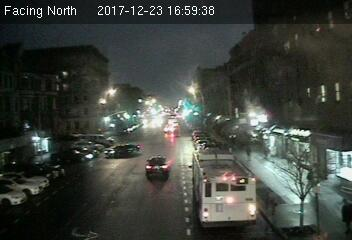bus: (191, 148, 256, 229)
car: (144, 153, 171, 175)
